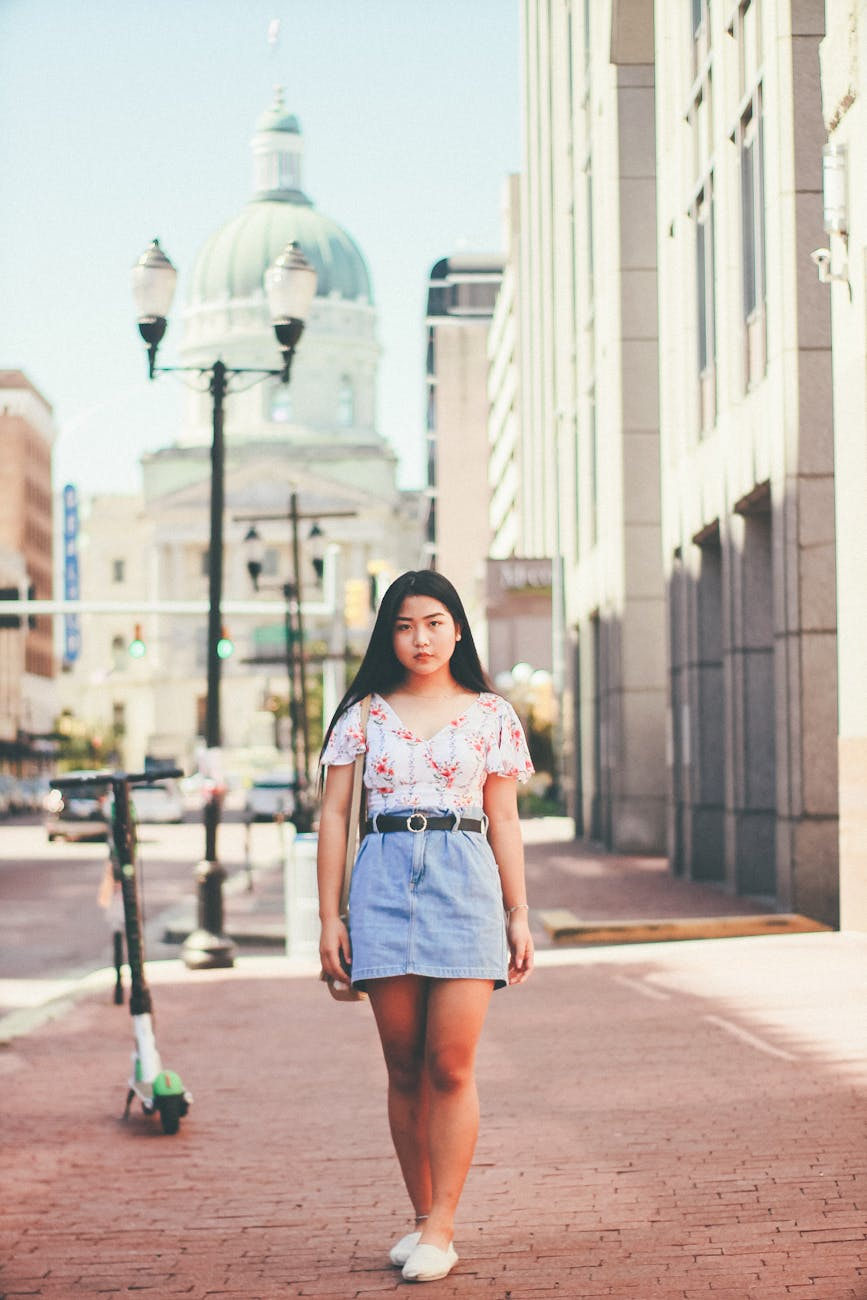short_medium_skirt: (321, 812, 524, 990)
